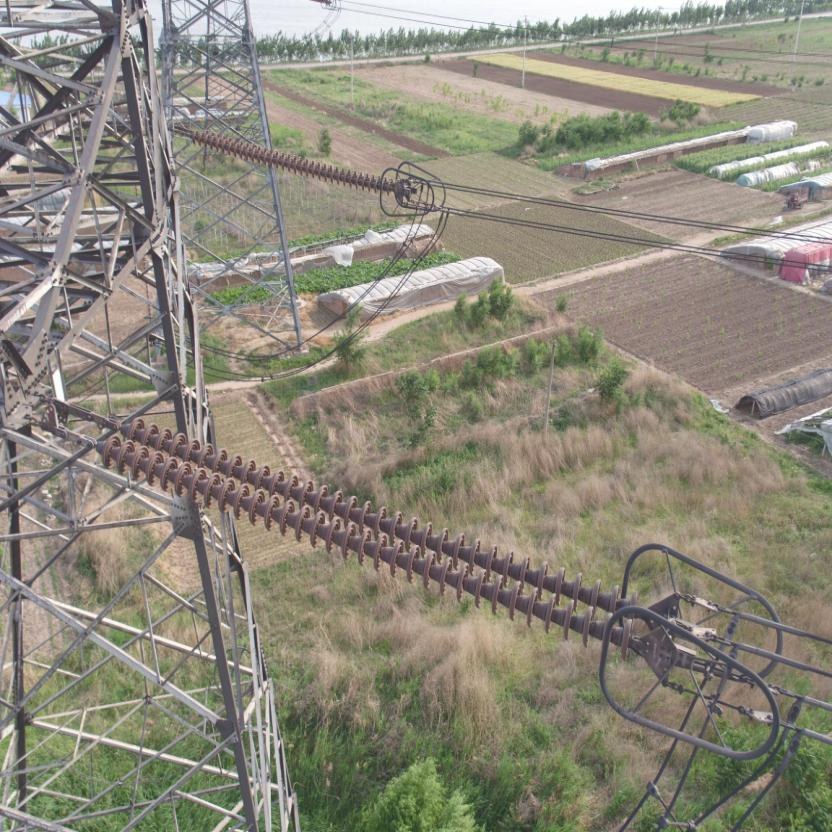insulator: (82, 410, 654, 664), (181, 121, 400, 196)
